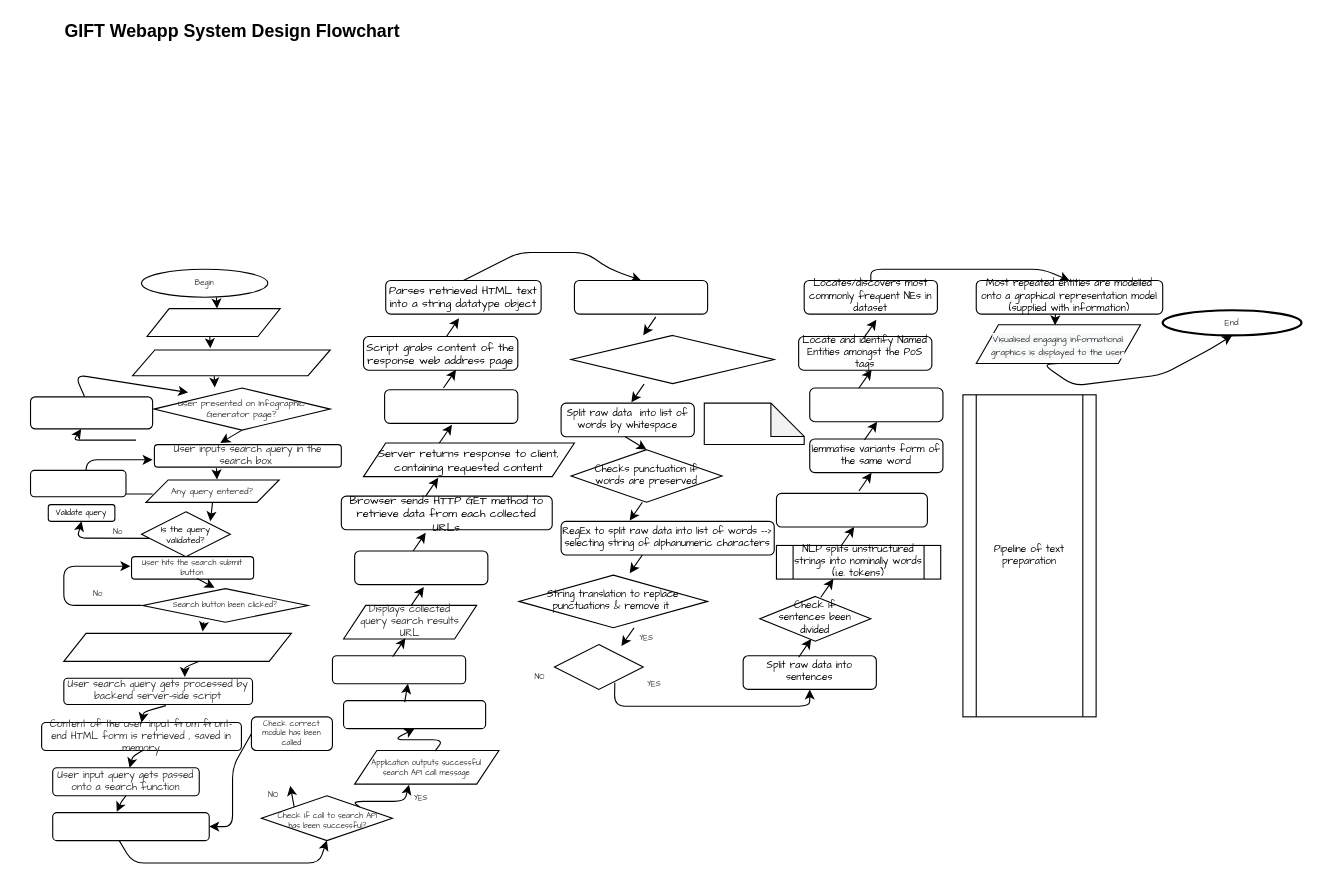
This 1321x891 diagram has some shape labels left out. The centre of each missing label's shape, as x and y in pixels:
Assigns Part of Speech tags to each individual tokens: the point at 876,404
Checks if text string content is parsed as HTML format: the point at 672,359
Establishes TCP connection: the point at 421,567
Execute results search through API module for the assessed query: the point at 414,714
Formats string in a readable format: the point at 640,296
i.e. end of sentence punctuation is kept with the last word: the point at 753,423
Normalise cases?: the point at 598,666
Outputs message confirming search is taking place: the point at 177,646
Retrieves relevant URLa from API: the point at 398,669
Search function makes a call to a search API: the point at 130,826
stems words into its originated root/stem: the point at 851,509
Terminates the current TCP connection: the point at 451,406
User access the website: the point at 213,322
User clicks Infographic Generator navigation link: the point at 91,412
User inputs a search query: the point at 77,483
Website presents a greeting landing page: the point at 231,362
